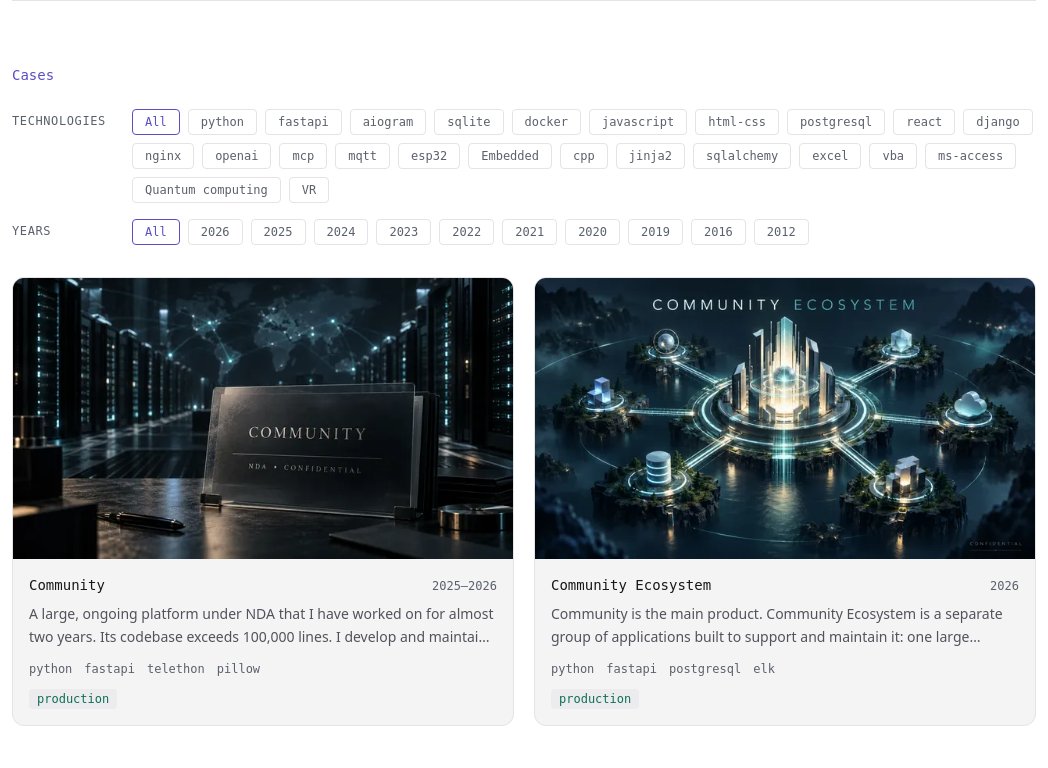
it: секція кейсів › повторний клік по активному фільтру знімає його
Click the button "python" at (222, 122), box [188,109,257,135]
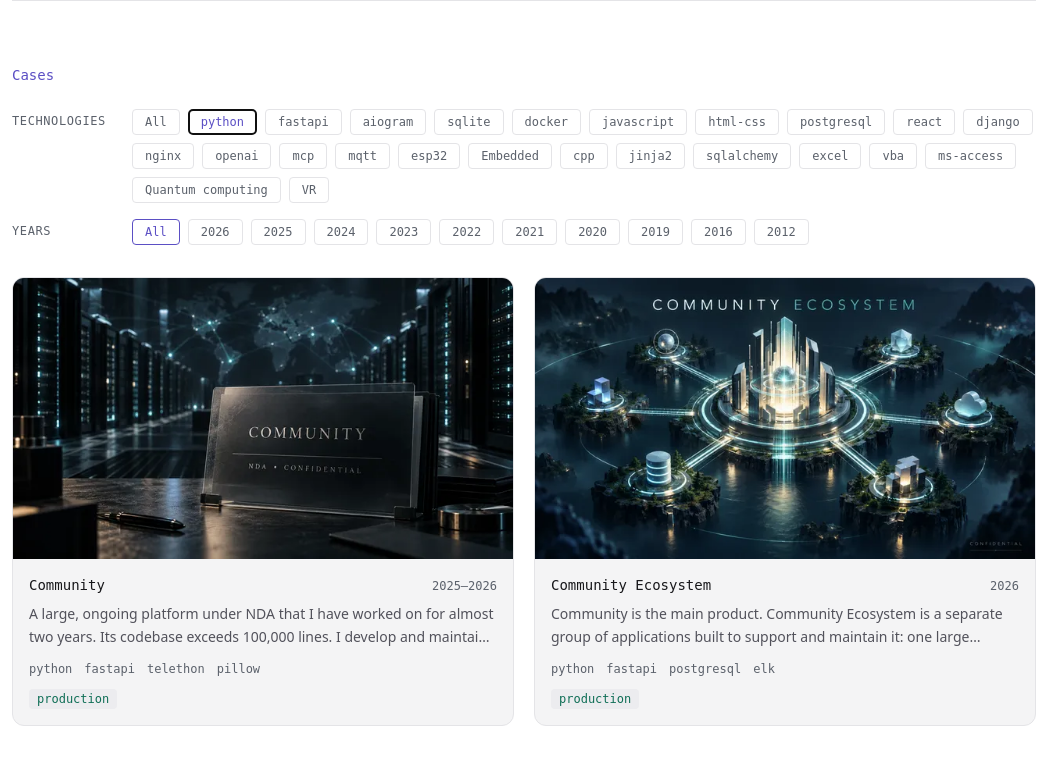
Click the button "python" at (222, 122), box [188,109,257,135]
(page scrolled)
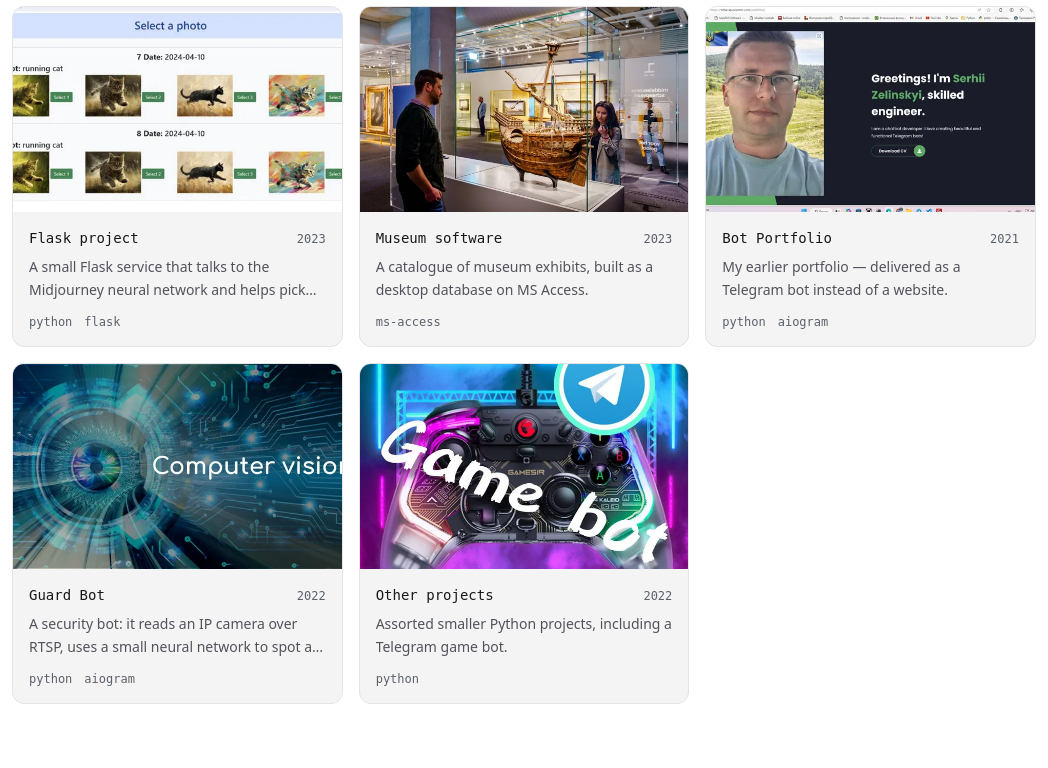
Check: the heading "Flask project" is shown, box [29,228,139,248]
Check: the heading "Museum software" is shown, box [376,228,502,248]
Check: the heading "Bot Portfolio" is shown, box [722,228,832,248]
